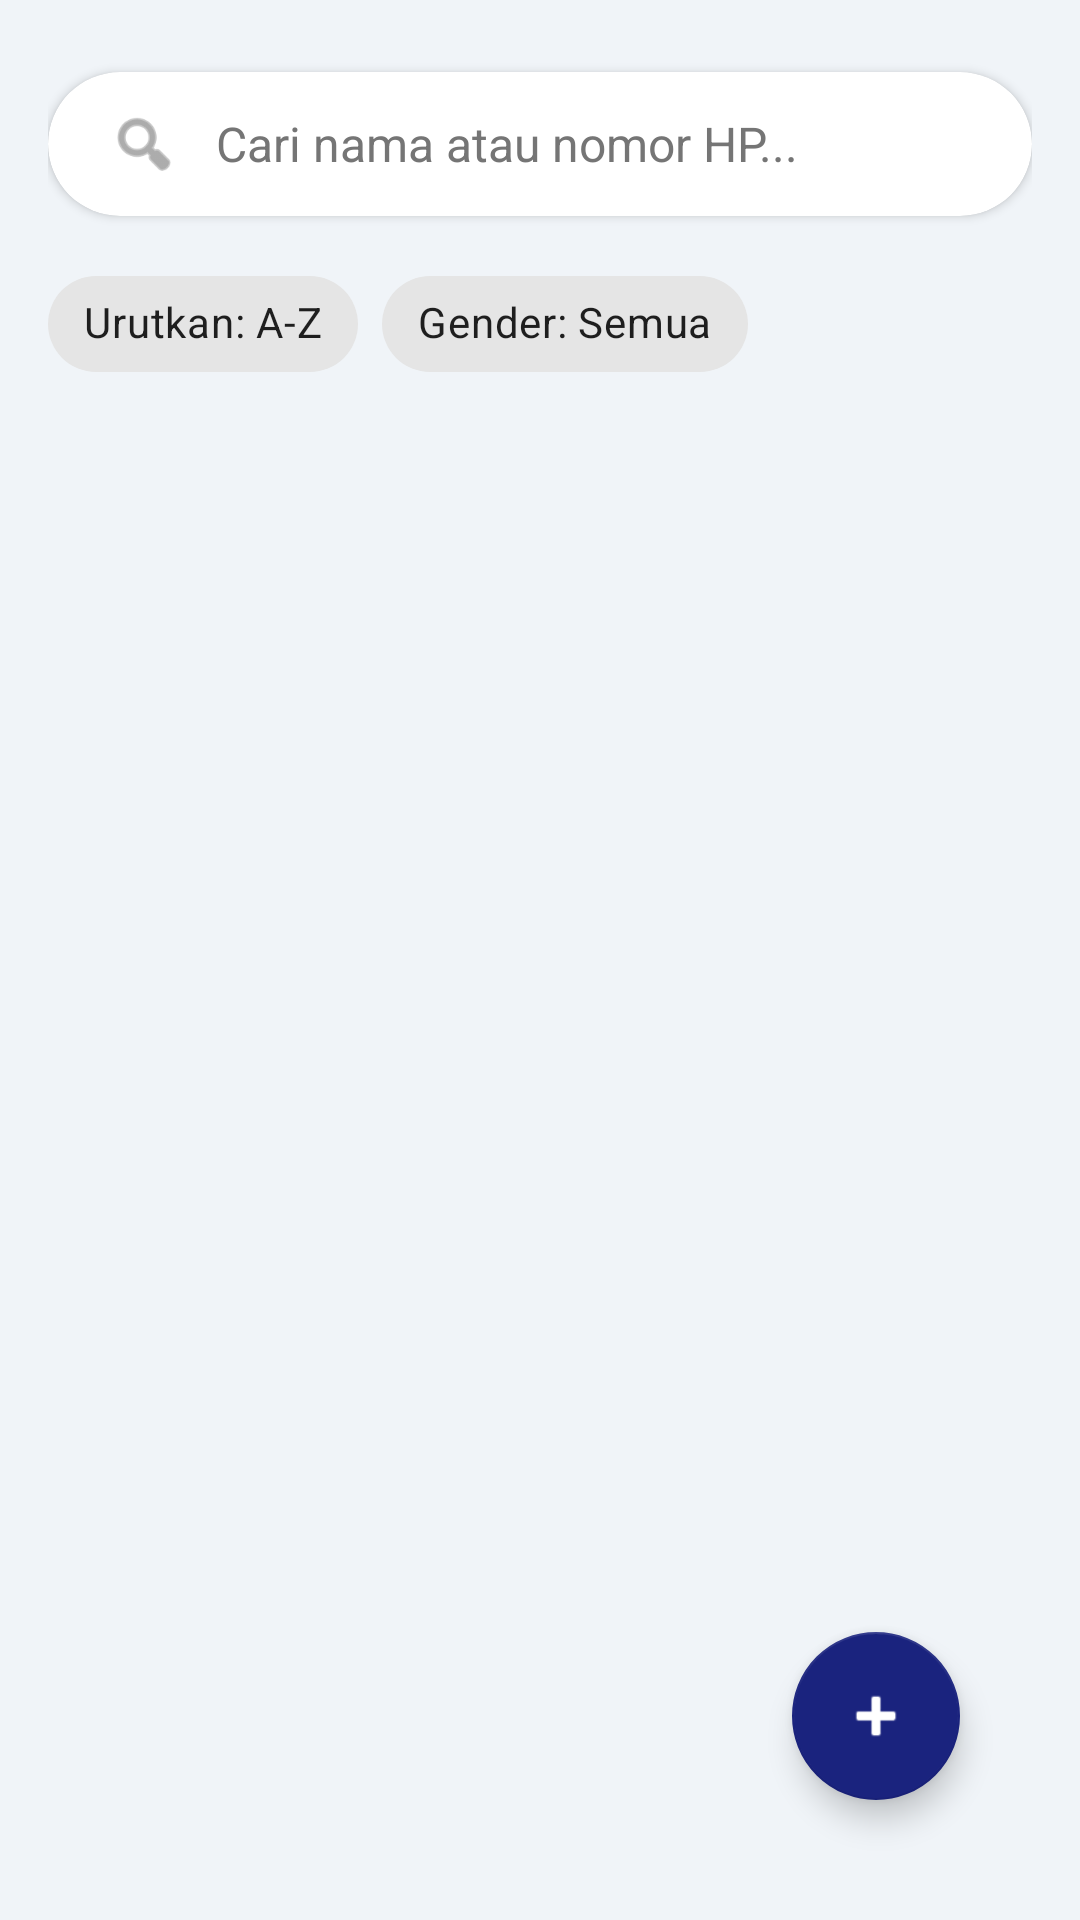

Where to tap for icons on this 1080w x 1920h app screen, as (x=x, y=y):
search: (x=144, y=144)
Tambah Pasien: (x=876, y=1716)
